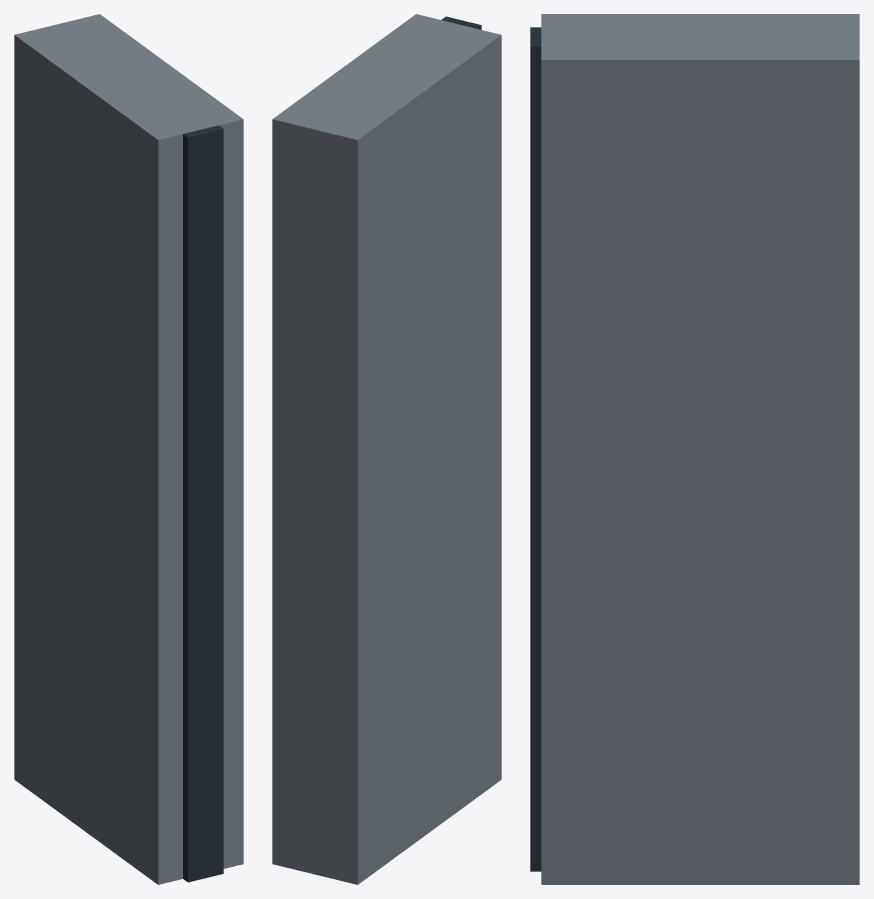
Rendered from Window_FrameV.gltf.
3 renders of one model, left to right at view 1: azimuth 30°, elevation 25°; view 2: azimuth 150°, elevation 25°; view 3: azimuth 270°, elevation 25°, orthographic. The views are drawn at different scales.
Parts seen in each view (by area): view 1: Window_FrameV_baked; view 2: Window_FrameV_baked; view 3: Window_FrameV_baked.
Part boxes in pixels (x1=…): Window_FrameV_baked: x1=14, y1=14, x2=243, y2=884; Window_FrameV_baked: x1=272, y1=14, x2=501, y2=884; Window_FrameV_baked: x1=530, y1=14, x2=859, y2=884.
Size of the model in its own units: 0.12 by 1 by 0.362.
